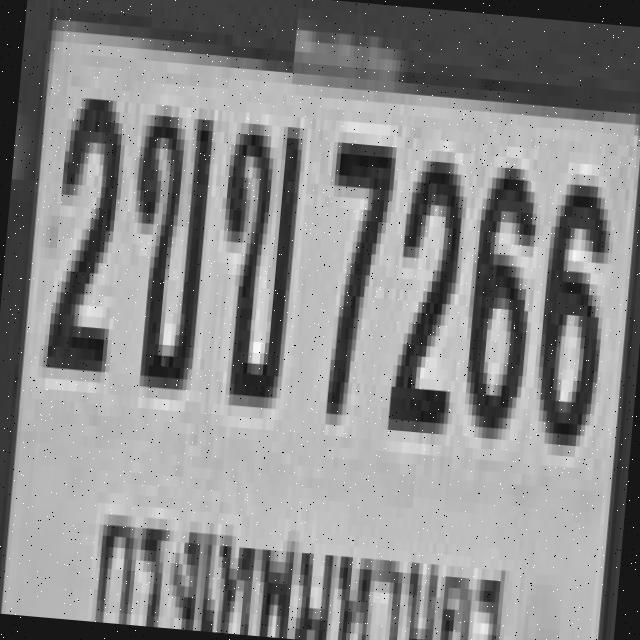11KhorKhai: (116, 92, 212, 379), (206, 111, 300, 398)
2: (384, 148, 466, 423), (41, 86, 123, 360)
6: (458, 154, 536, 430), (530, 171, 610, 436)
7: (310, 130, 393, 417)
Bangkok: (85, 487, 520, 640)
